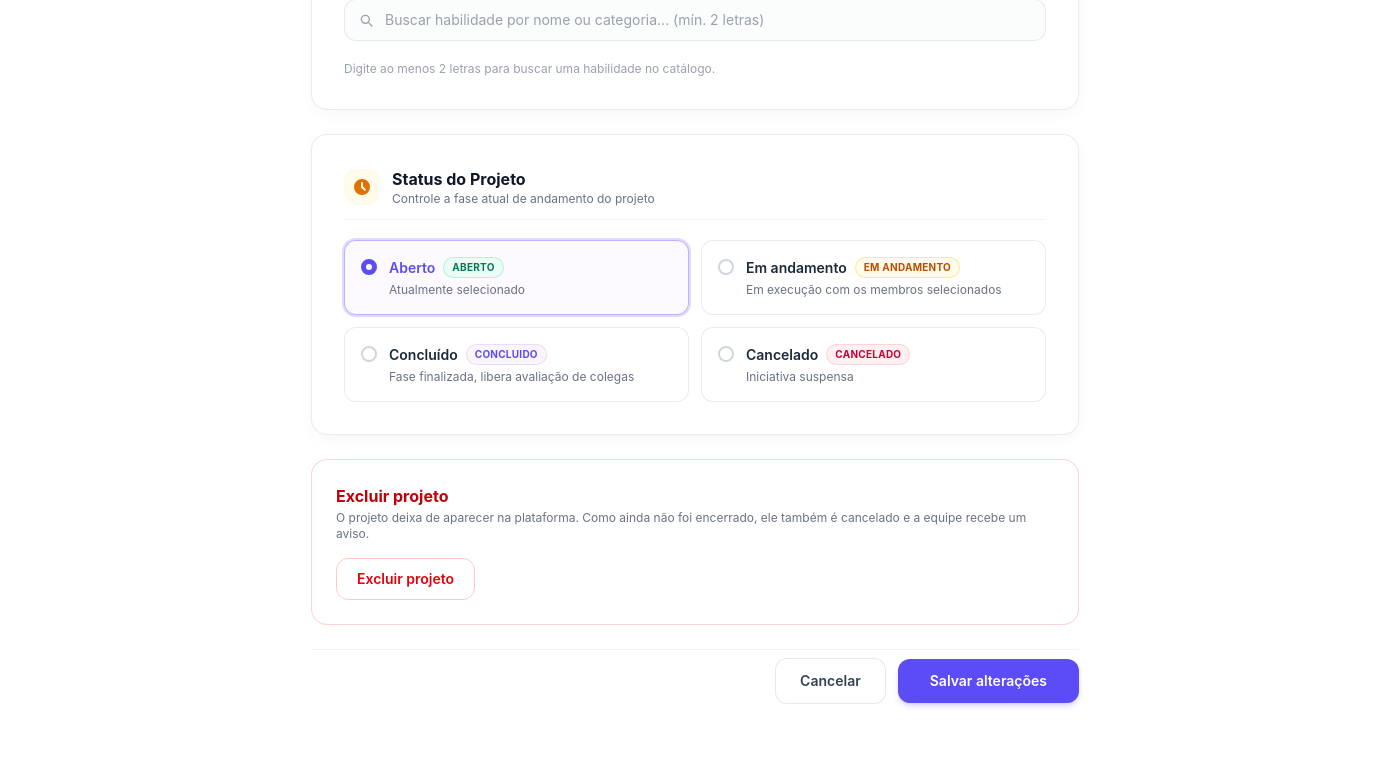
EditarProjeto › exclui o projeto após confirmação e volta para a lista de projetos
(page scrolled)
Step 1. Click the button "Excluir projeto" → (406, 579), box [336, 558, 475, 600]
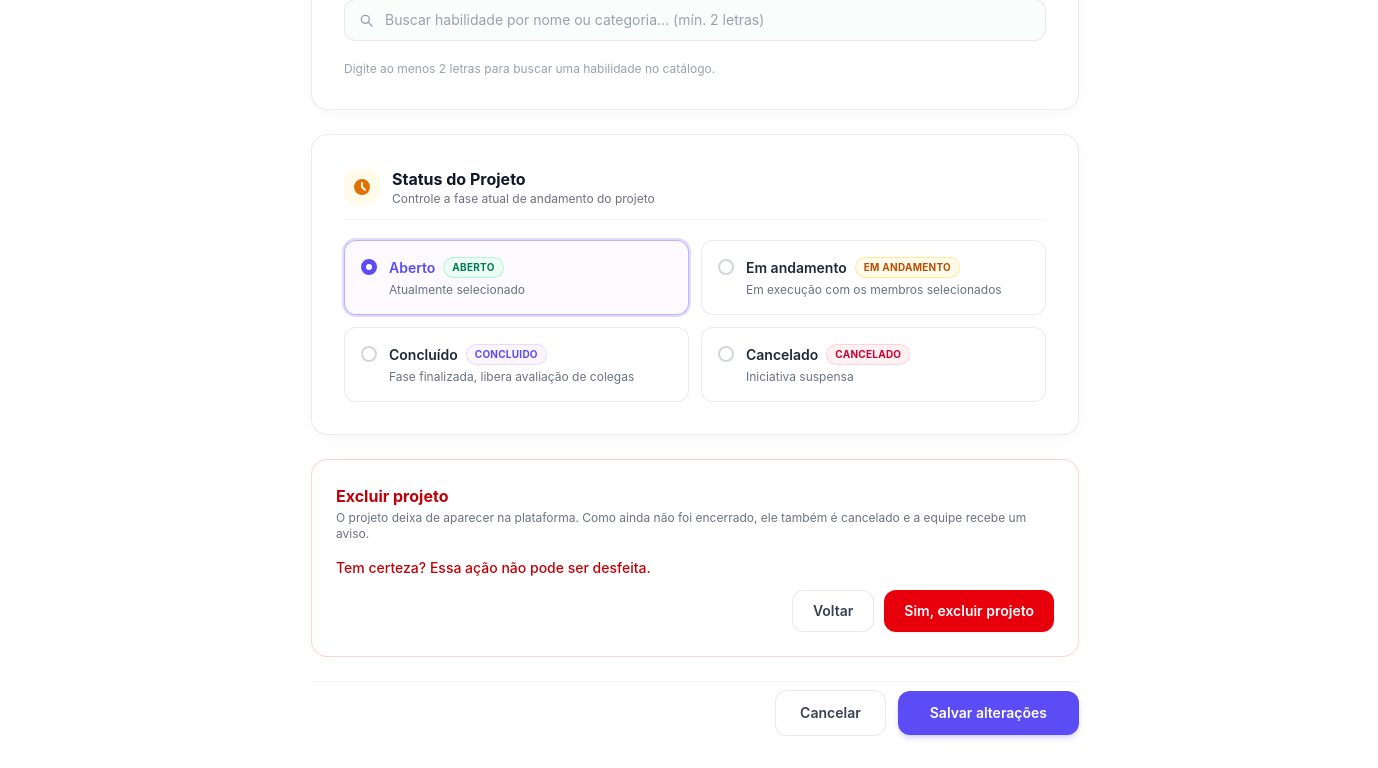
Step 2. Click the button "Sim, excluir projeto" → (969, 611), box [884, 590, 1054, 632]
(page scrolled)
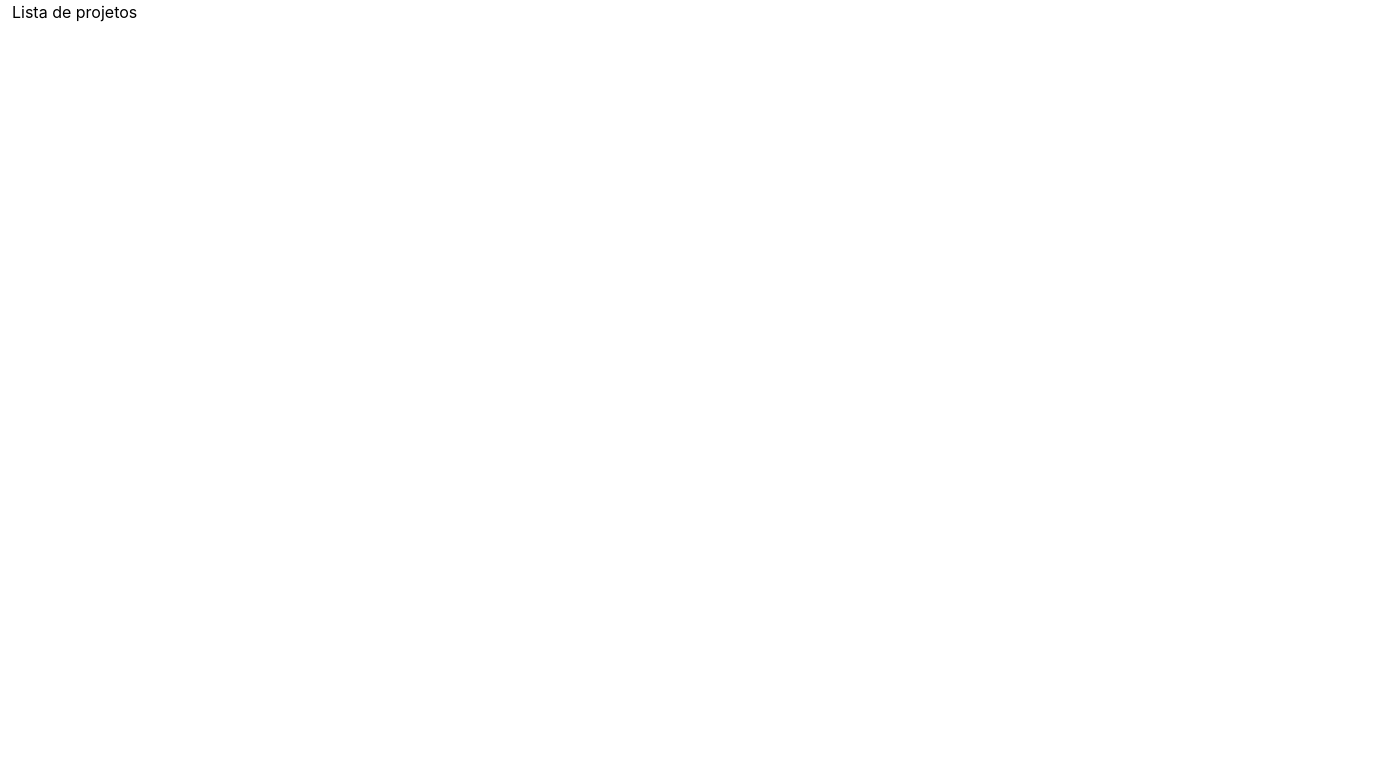
Expected: the text "Lista de projetos" is shown, [12, 2, 137, 22]
